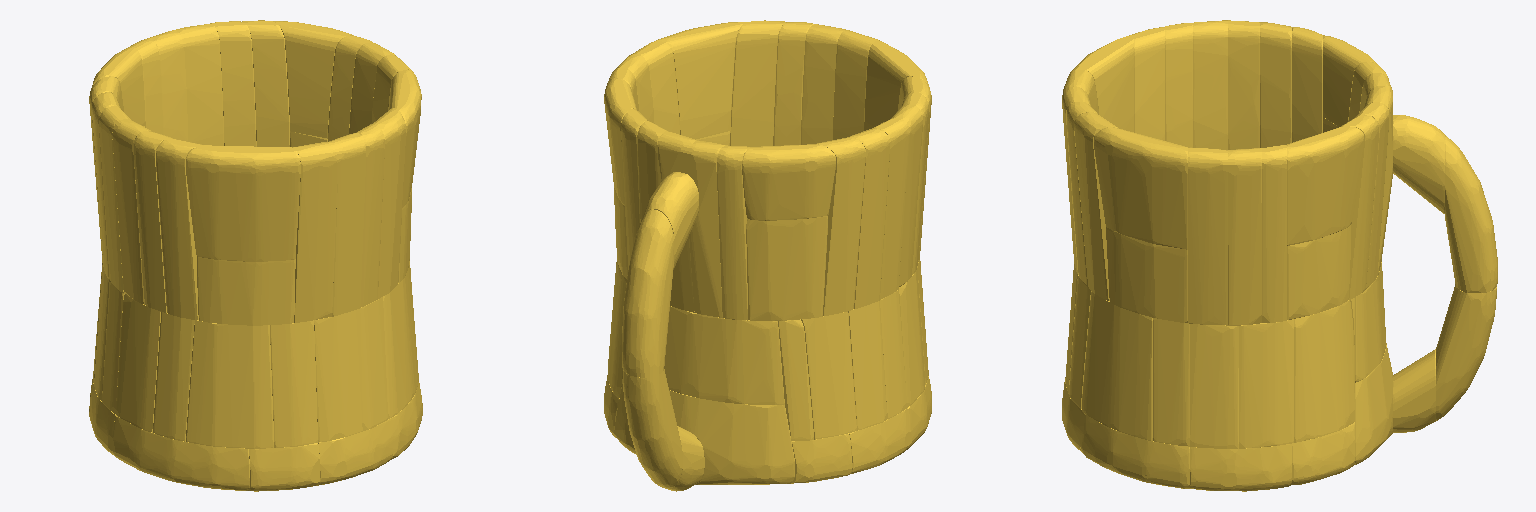
URDF robot description (1018.urdf):
<?xml version="1.0" ?>
<robot name="1018.urdf">
	<link name="baseLink">
		<inertial>
			<origin rpy="0 0 0" xyz="0 0 0"/>
				<mass value="0.1"/>
				<inertia ixx="6e-5" ixy="0" ixz="0" iyy="6e-5" iyz="0" izz="6e-5"/>
		</inertial>
		<visual>
			<origin rpy="0 0 0" xyz="0 0 0"/>
			<geometry>
				<mesh filename="13_decom_wt.obj" scale="1.05 1.05 0.86"/>
			</geometry>
			<material name="yellow">
				<color rgba="0.98 0.84 0.35 1"/>
			</material>
		</visual>
		<collision>
			<origin rpy="0 0 0" xyz="0 0 0"/>
			<geometry>
				<mesh filename="13_decom_wt.obj" scale="1.05 1.05 0.86"/>
			</geometry>
		</collision>
	</link>
</robot>

--- Facts derived from the render (not from the file) ---
3 views of the same robot in one strip: view 1: azimuth 30°, elevation 25°; view 2: azimuth 150°, elevation 25°; view 3: azimuth 270°, elevation 25° (orthographic).
Model 1018.urdf with 1 links and 0 joints (none), rooted at baseLink, posed all joints at 0.
Links seen in each view (by area): view 1: baseLink; view 2: baseLink; view 3: baseLink.
Boxes of the visible links, x1=… form: baseLink: x1=89, y1=20, x2=422, y2=491; baseLink: x1=604, y1=20, x2=931, y2=491; baseLink: x1=1062, y1=20, x2=1497, y2=491.
Size in the robot's own frame: 0.0941 by 0.1235 by 0.1076 metres.
1 mesh visuals loaded from 1 distinct referenced files (1 OBJ).